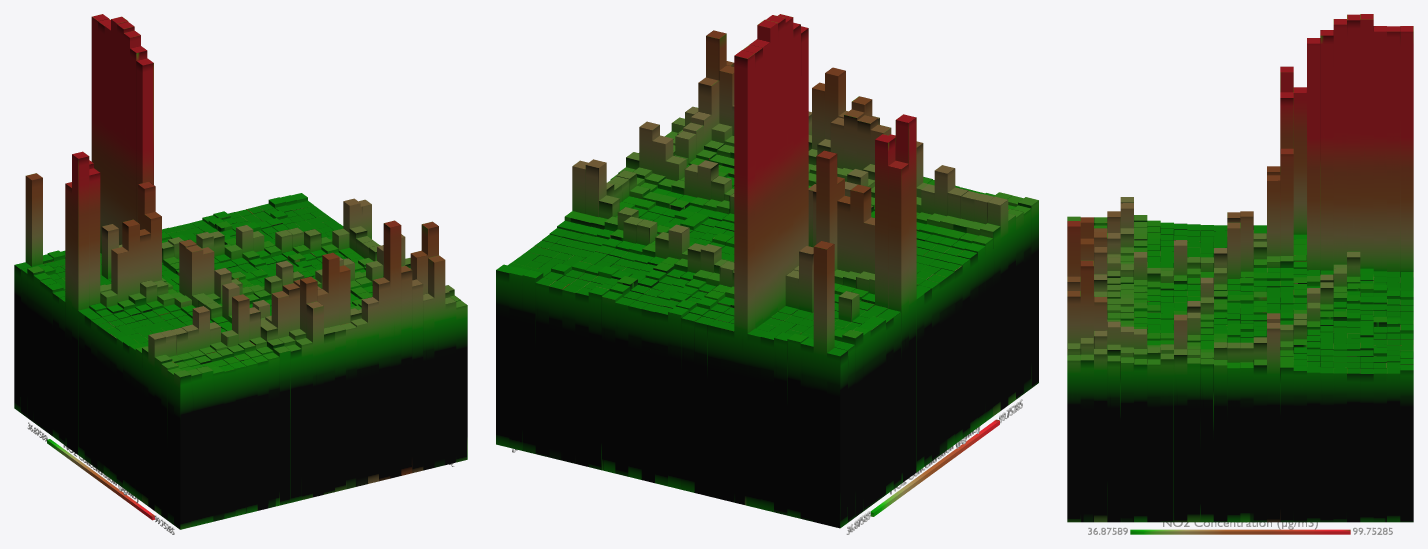
3 renders of one model, left to right at view 1: azimuth 30°, elevation 25°; view 2: azimuth 150°, elevation 25°; view 3: azimuth 270°, elevation 25°, orthographic. The views are drawn at different scales.
Visible parts, largest first — view 1: Cube.566, Cube.002; view 2: Cube.566, Cube.002; view 3: Cube.566, Cube.001, Text.003.
Part boxes in pixels (x1,y1,x2,y2): Cube.566: (14,14,467,529); Cube.002: (47,439,155,520); Cube.566: (496,14,1038,528); Cube.002: (870,419,999,516); Cube.566: (1067,14,1413,522); Cube.001: (1130,529,1350,534); Text.003: (1163,522,1317,529).
Bounding box in the file's own units: 52 × 69.79 × 52.
3 materials, 2 textured.
